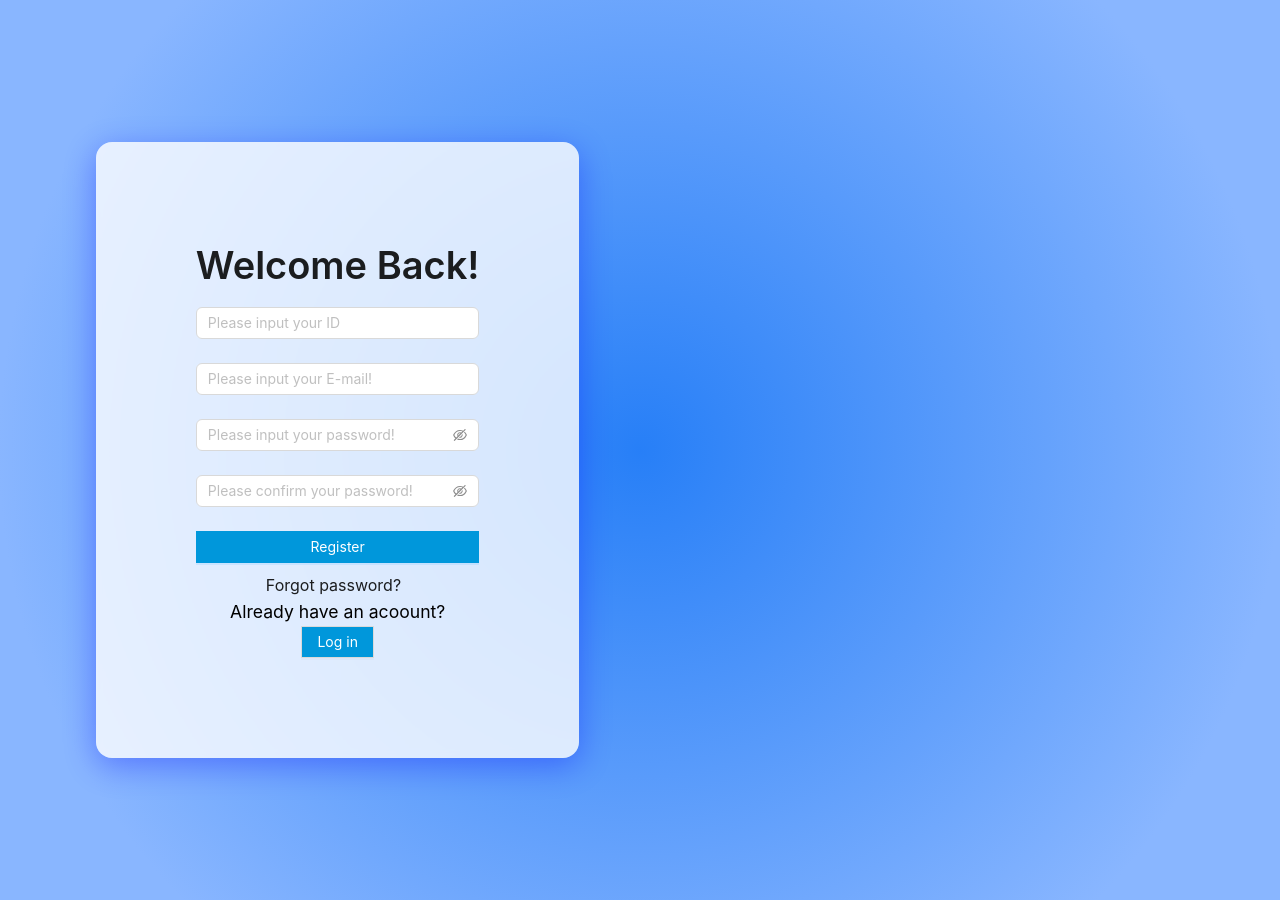
it: Register component › password confirmation mismatch shows error
Type "Password123!" into the password field with placeholder "Please input your password!" at (329, 435), box left=208, top=424, right=450, bottom=446
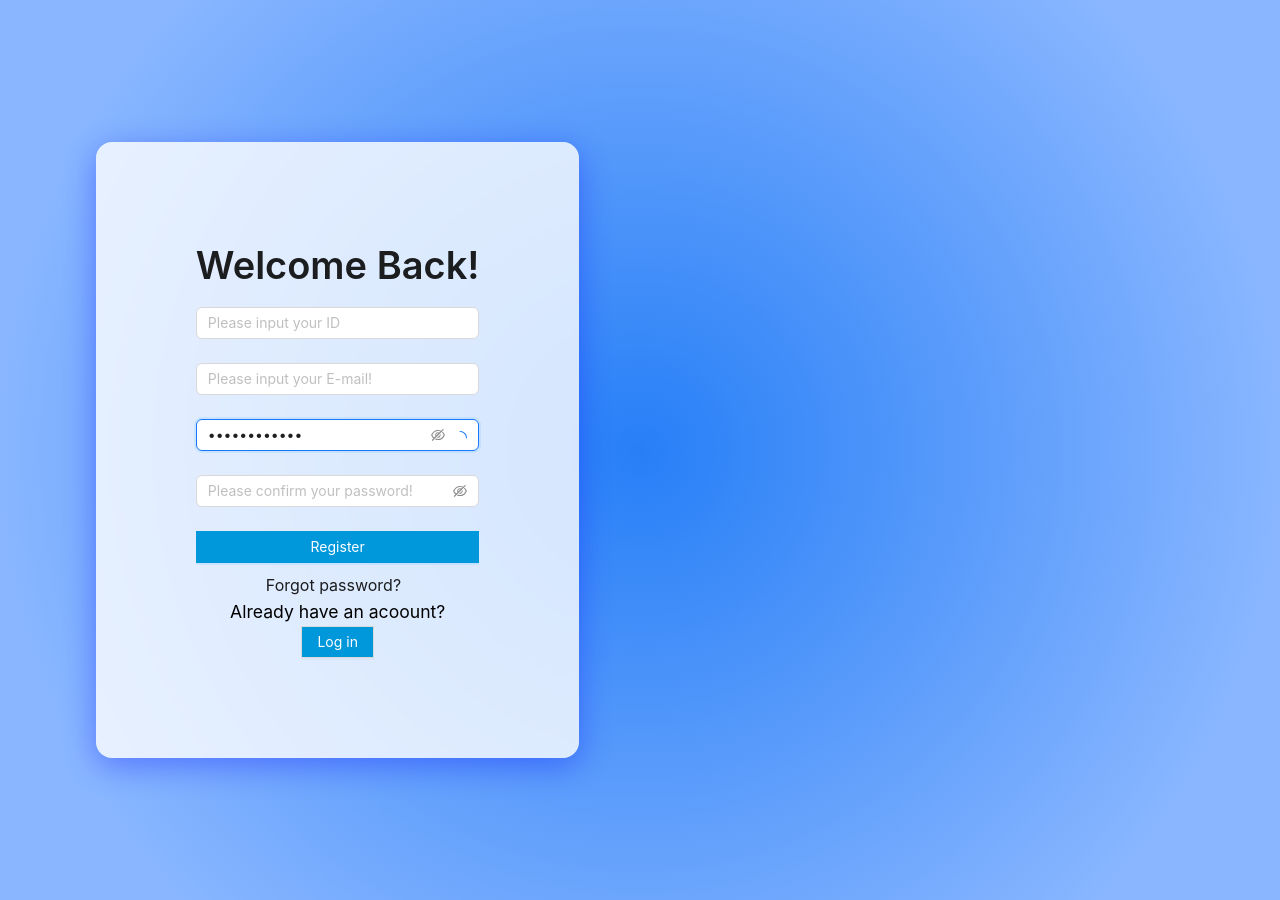
Type "differentPassword123!" into the password field with placeholder "Please confirm your password!" at (329, 491), box left=208, top=480, right=450, bottom=502
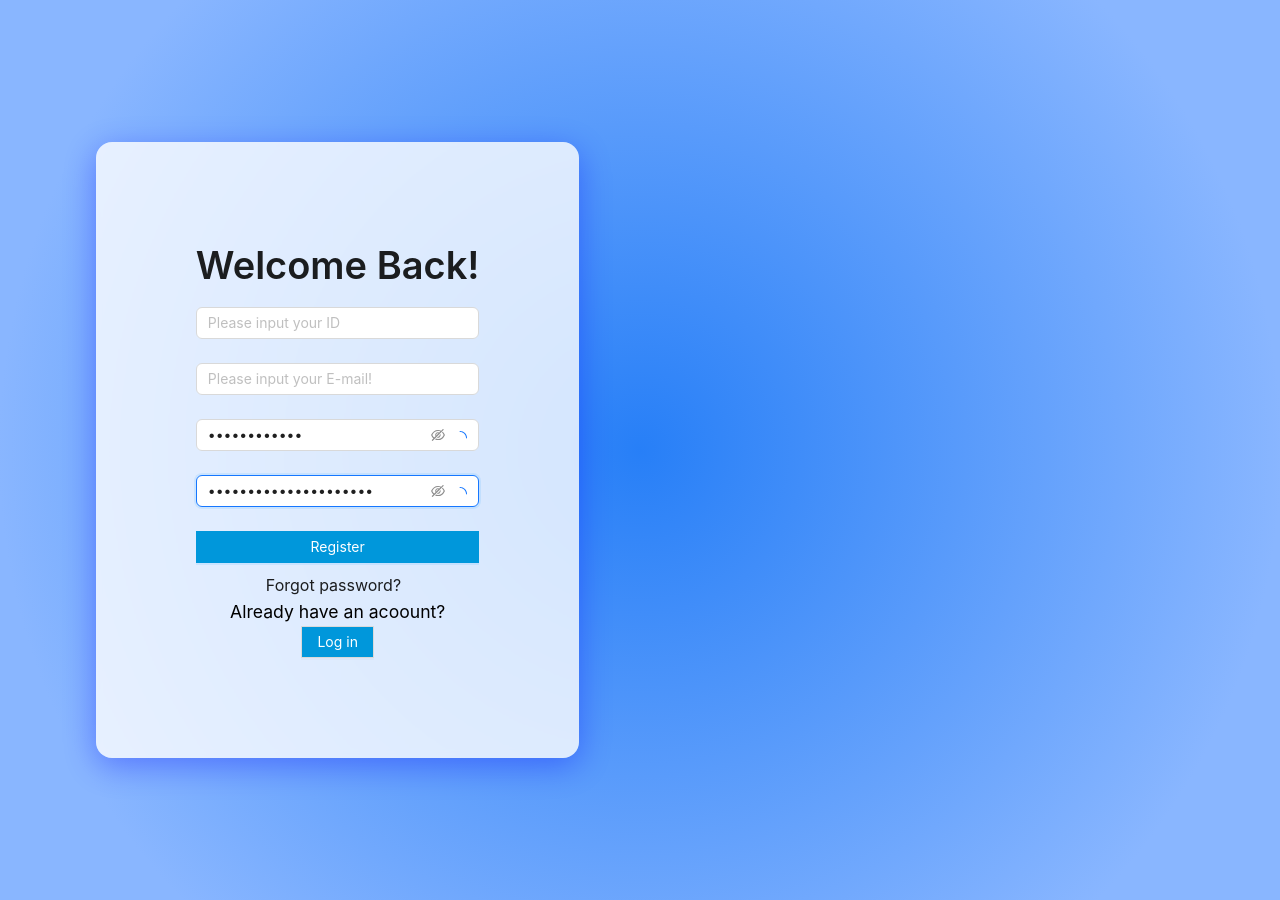
Click the button "Register" at (338, 547), box left=196, top=531, right=480, bottom=563
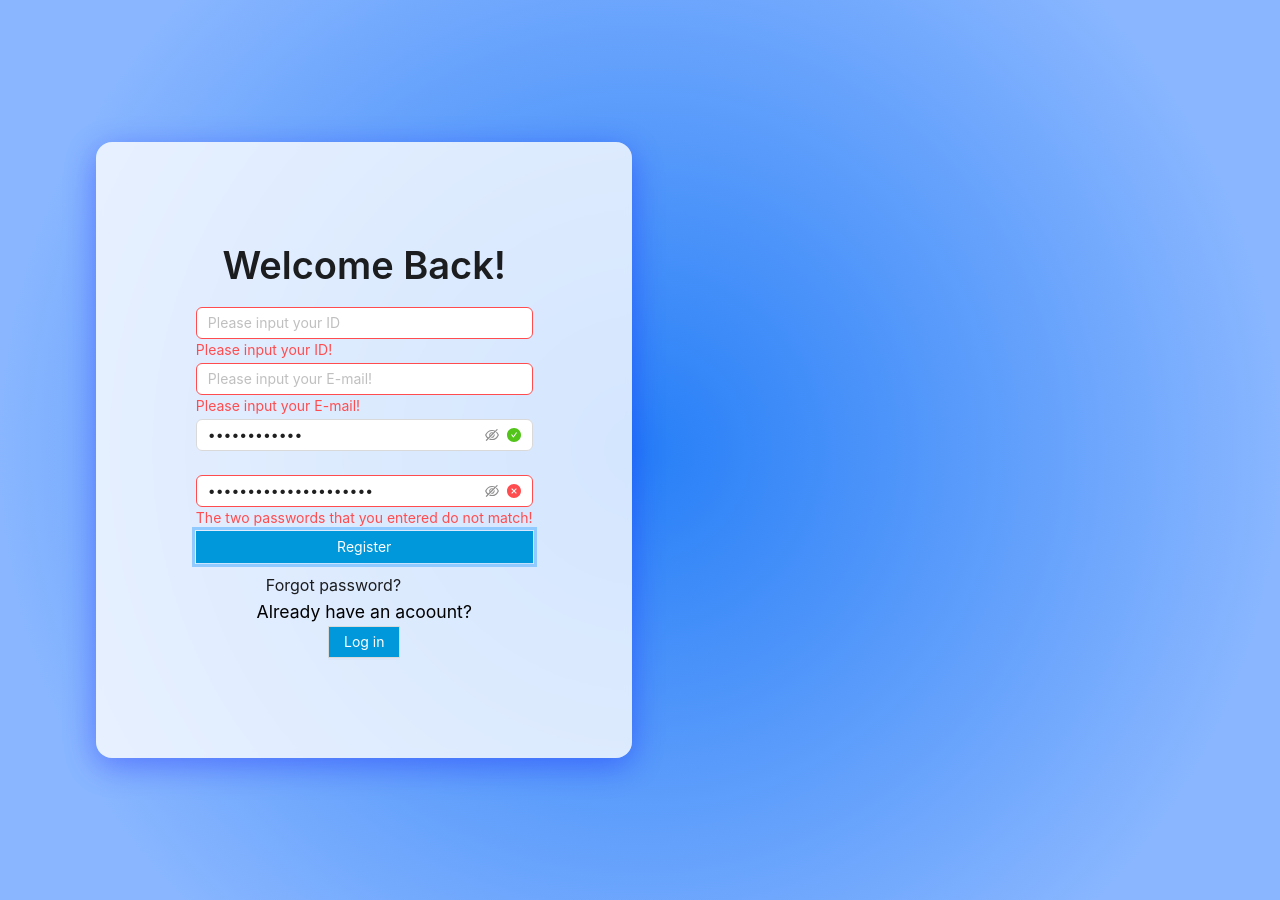
Expected: the text "The two passwords that you entered do not match!" is shown, left=196, top=507, right=533, bottom=529
